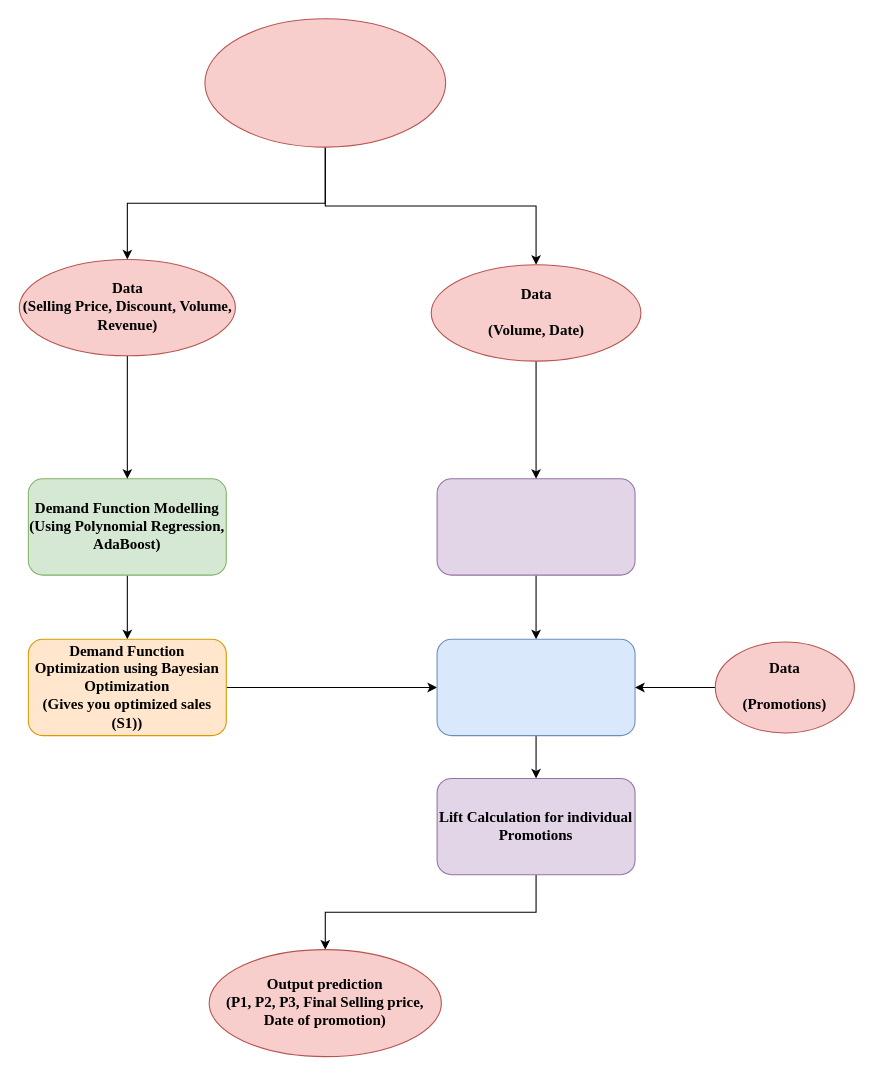
Some shapes in this 873 by 1075 pixel diagram are drawn without their labels. Here are the shapes that lost their labels. From the top down, the box of each, then its label:
(204, 18, 446, 147): Raw Data (Selling Price, Discount, Volume, Revenue, Date, Promotions)
(436, 478, 635, 575): Time Series Forecasting for Baseline Sales (S2)
(436, 638, 635, 736): Volume of sales to be lifted using Promotions (S1-S2)
